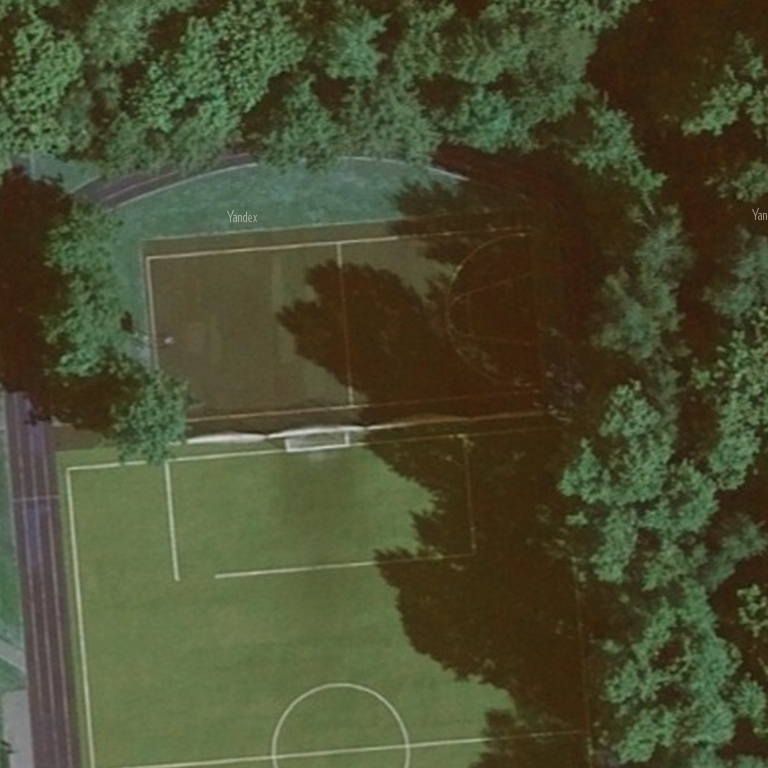basket_court: (125, 199, 562, 453)
